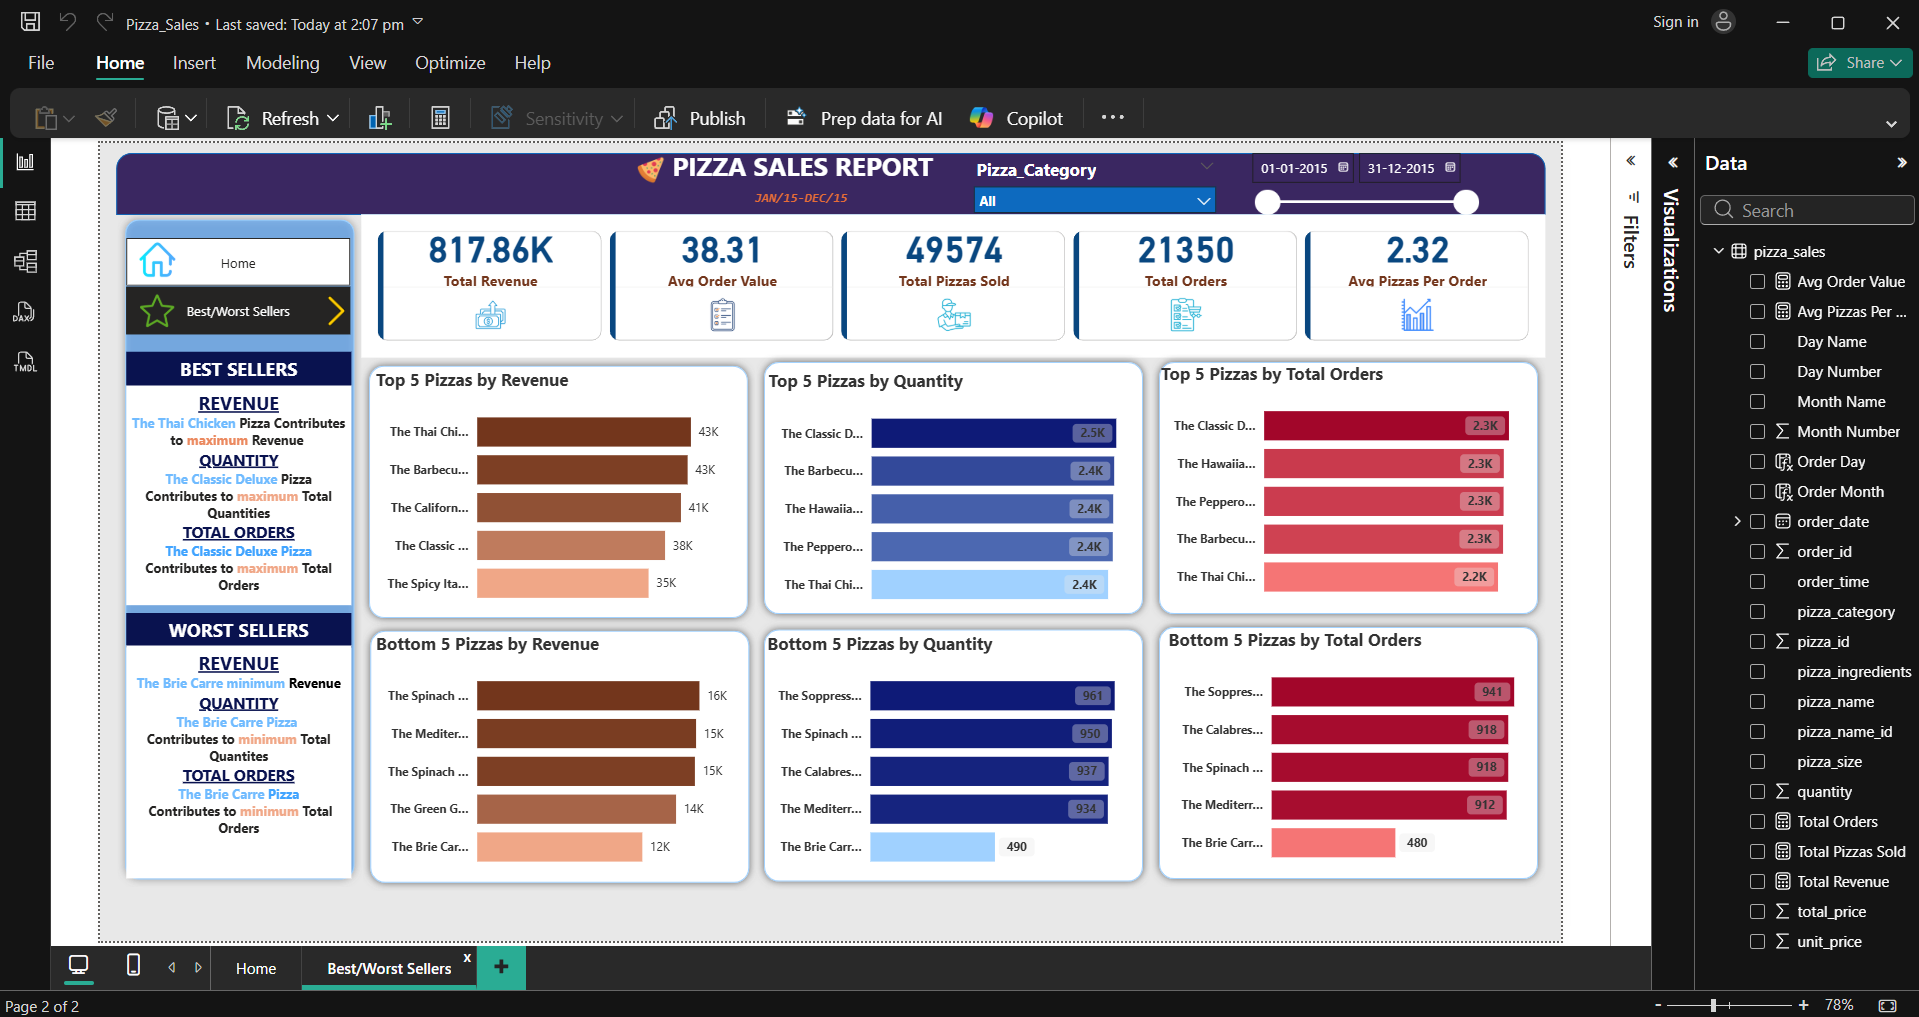

The page's visual inventory and layout, read from the dashboard file:
{"tool":"powerbi","page":{"name":"Best/Worst Sellers","canvas":[1500,820],"ordinal":1},"visuals":[{"type":"shape","box":[17,9.9,1467.7,63.8],"z":0},{"type":"cardVisual","fields":{"Data":["pizza_sales.Total Revenue","pizza_sales.Avg Order Value","pizza_sales.Total Pizzas Sold","pizza_sales.Total Orders","pizza_sales.Avg Pizzas Per Order"]},"box":[268.8,73.8,1216.2,147.5],"z":1000},{"type":"textbox","box":[555.3,0,331.8,45.9],"z":2000},{"type":"textbox","box":[633.3,41.1,174.3,28.3],"z":3000},{"type":"image","box":[543.8,13.8,42.5,27.5],"z":4000},{"type":"shape","box":[268.8,221.2,405,275],"z":5000},{"type":"shape","box":[17.5,70,251.2,693.8],"z":6000},{"type":"textbox","box":[26.9,213.9,230.9,35.4],"z":7000},{"type":"textbox","box":[26.9,249.3,230.9,225.3],"z":8000},{"type":"textbox","box":[26.9,483.1,230.9,35.4],"z":9000},{"type":"textbox","box":[26.9,515.7,230.9,239.4],"z":10000},{"type":"slicer","fields":{"Values":["pizza_sales.pizza_category"]},"box":[886.9,9.9,269.2,63.8],"z":11000},{"type":"slicer","fields":{"Values":["pizza_sales.order_date"]},"box":[1170.2,0,253.6,83.6],"z":12000},{"type":"shape","box":[674.4,216.8,405.2,274.8],"z":13000},{"type":"shape","box":[1079.5,216.8,405.2,274.8],"z":14000},{"type":"shape","box":[269.2,493,405.2,274.8],"z":15000},{"type":"shape","box":[674.4,491.6,405.2,274.8],"z":16000},{"type":"shape","box":[1079.5,488.8,405.2,274.8],"z":17000},{"type":"barChart","title":"Top 5 Pizzas by Revenue","fields":{"Category":["pizza_sales.pizza_name"],"Y":["pizza_sales.Total Revenue"]},"box":[279.1,230.9,382.5,257.8],"z":18000},{"type":"barChart","title":"Bottom 5 Pizzas by Revenue","fields":{"Category":["pizza_sales.pizza_name"],"Y":["pizza_sales.Total Revenue"]},"box":[279.1,501.5,382.5,257.8],"z":19000},{"type":"barChart","title":"Top 5 Pizzas by Quantity","fields":{"Category":["pizza_sales.pizza_name"],"Y":["pizza_sales.Total Pizzas Sold"]},"box":[681.4,232.3,392.4,257.8],"z":20000},{"type":"barChart","title":"Bottom 5 Pizzas by Quantity","fields":{"Category":["pizza_sales.pizza_name"],"Y":["pizza_sales.Total Pizzas Sold"]},"box":[680,501.5,393.9,257.8],"z":21000},{"type":"barChart","title":"Top 5 Pizzas by Total Orders","fields":{"Category":["pizza_sales.pizza_name"],"Y":["pizza_sales.Total Orders"]},"box":[1085.2,225.3,393.9,257.8],"z":22000},{"type":"barChart","title":"Bottom 5 Pizzas by Total Orders","fields":{"Category":["pizza_sales.pizza_name"],"Y":["pizza_sales.Total Orders"]},"box":[1092.4,497.8,392.5,257.2],"z":23000},{"type":"pageNavigator","box":[26.9,147.3,230.9,49.6],"z":24000},{"type":"pageNavigator","box":[26.9,97.8,230.9,49.6],"z":25000},{"type":"image","box":[226.7,147.3,31.2,49.6],"z":26000},{"type":"image","box":[26.9,102,63.8,37],"z":27000},{"type":"image","box":[40.9,144.4,35.4,54.5],"z":28000}]}

Visuals, with their boxes on the page's 1500x820 design canvas (x1, y1, x2, y2). These are canvas units, not pixel positions in the 1919x1017 screenshot, which may show the page scaled, cropped or inside an application window:
shape: pyautogui.locateOnScreen(17, 10, 1485, 74)
cardVisual - pizza_sales.Total Revenue x pizza_sales.Avg Order Value: pyautogui.locateOnScreen(269, 74, 1485, 221)
textbox: pyautogui.locateOnScreen(555, 0, 887, 46)
textbox: pyautogui.locateOnScreen(633, 41, 808, 69)
image: pyautogui.locateOnScreen(544, 14, 586, 41)
shape: pyautogui.locateOnScreen(269, 221, 674, 496)
shape: pyautogui.locateOnScreen(18, 70, 269, 764)
textbox: pyautogui.locateOnScreen(27, 214, 258, 249)
textbox: pyautogui.locateOnScreen(27, 249, 258, 475)
textbox: pyautogui.locateOnScreen(27, 483, 258, 518)
textbox: pyautogui.locateOnScreen(27, 516, 258, 755)
slicer - pizza_sales.pizza_category: pyautogui.locateOnScreen(887, 10, 1156, 74)
slicer - pizza_sales.order_date: pyautogui.locateOnScreen(1170, 0, 1424, 84)
shape: pyautogui.locateOnScreen(674, 217, 1080, 492)
shape: pyautogui.locateOnScreen(1080, 217, 1485, 492)
shape: pyautogui.locateOnScreen(269, 493, 674, 768)
shape: pyautogui.locateOnScreen(674, 492, 1080, 766)
shape: pyautogui.locateOnScreen(1080, 489, 1485, 764)
"Top 5 Pizzas by Revenue" barChart: pyautogui.locateOnScreen(279, 231, 662, 489)
"Bottom 5 Pizzas by Revenue" barChart: pyautogui.locateOnScreen(279, 502, 662, 759)
"Top 5 Pizzas by Quantity" barChart: pyautogui.locateOnScreen(681, 232, 1074, 490)
"Bottom 5 Pizzas by Quantity" barChart: pyautogui.locateOnScreen(680, 502, 1074, 759)
"Top 5 Pizzas by Total Orders" barChart: pyautogui.locateOnScreen(1085, 225, 1479, 483)
"Bottom 5 Pizzas by Total Orders" barChart: pyautogui.locateOnScreen(1092, 498, 1485, 755)
pageNavigator: pyautogui.locateOnScreen(27, 147, 258, 197)
pageNavigator: pyautogui.locateOnScreen(27, 98, 258, 147)
image: pyautogui.locateOnScreen(227, 147, 258, 197)
image: pyautogui.locateOnScreen(27, 102, 91, 139)
image: pyautogui.locateOnScreen(41, 144, 76, 199)
